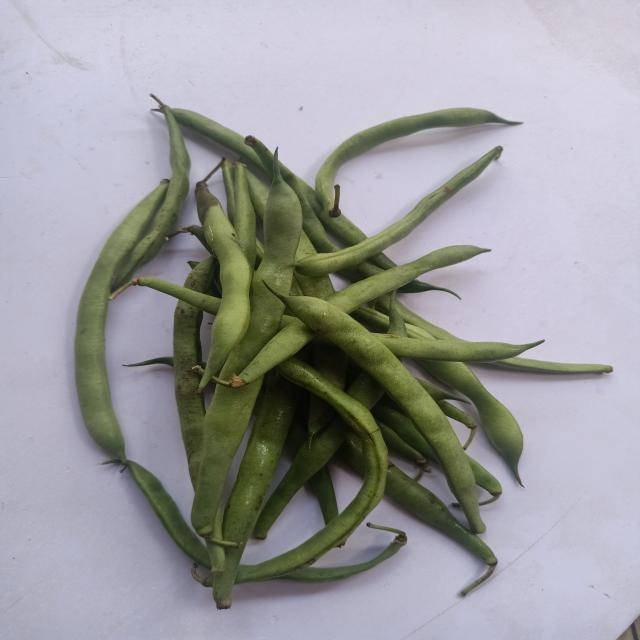Beans: (280, 295, 486, 534), (236, 359, 387, 583), (295, 146, 503, 276), (74, 180, 168, 465), (315, 107, 522, 214), (212, 370, 300, 610), (217, 167, 301, 381), (110, 105, 190, 290), (194, 179, 250, 389), (385, 463, 498, 567), (191, 380, 260, 535), (125, 461, 210, 570), (338, 432, 364, 476)
